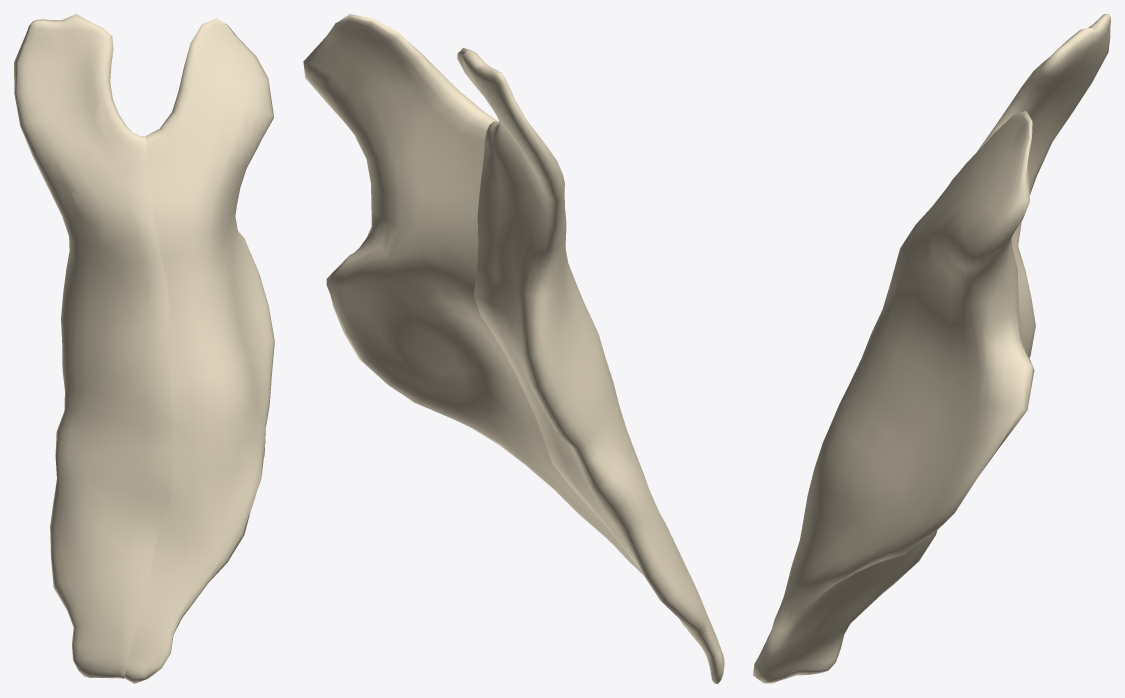
Rendered from thymus.glb.
The picture shows the model from 3 angles, left to right: view 1: azimuth 30°, elevation 25°; view 2: azimuth 150°, elevation 25°; view 3: azimuth 270°, elevation 25°; orthographic projection. The views are drawn at different scales.
Parts seen in each view (by area): view 1: VH_M_thymus_lobe_L; view 2: VH_M_thymus_lobe_L; view 3: VH_M_thymus_lobe_L.
Part boxes in pixels (bbox=[...]): VH_M_thymus_lobe_L: bbox=[14, 14, 274, 683]; VH_M_thymus_lobe_L: bbox=[303, 14, 724, 683]; VH_M_thymus_lobe_L: bbox=[753, 14, 1110, 683].
Bounding box in the file's own units: 0.037 × 0.0757 × 0.0351.
